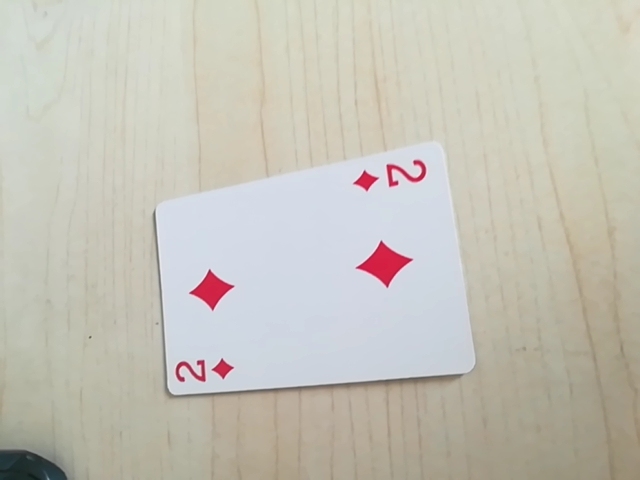fk 2: (352, 154, 436, 199), (170, 351, 241, 393)
